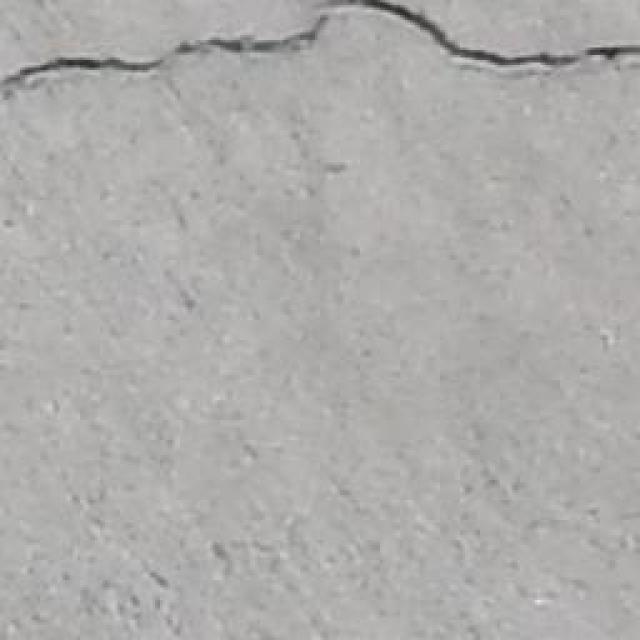concrete-crack: (1, 0, 640, 103)
